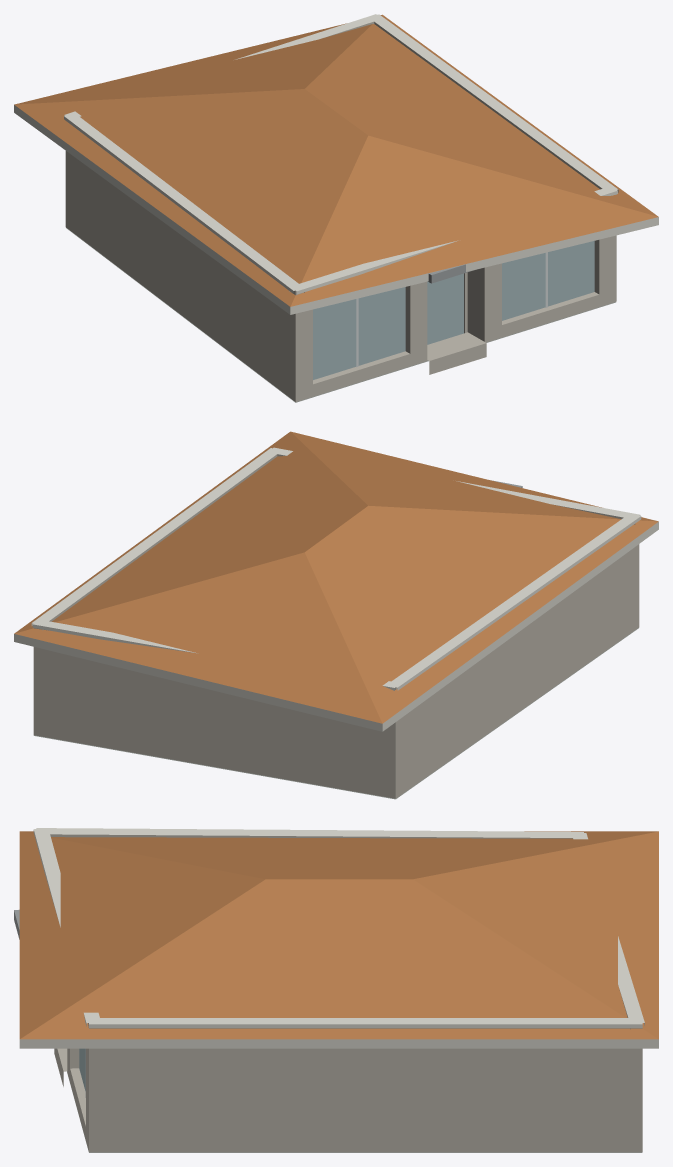
3 renders of one model, top to bottom at view 1: azimuth 30°, elevation 25°; view 2: azimuth 150°, elevation 25°; view 3: azimuth 270°, elevation 25°, orthographic. The views are drawn at different scales.
Visible parts, largest first — view 1: cafe__roofAccent, cafe__wall, cafe__trim, cafe__glass, cafe__entranceThreshold, cafe__parapet, cafe__roof; view 2: cafe__roofAccent, cafe__wall, cafe__trim, cafe__parapet, cafe__roof; view 3: cafe__roofAccent, cafe__wall, cafe__trim, cafe__parapet, cafe__roof.
Boxes of the visible parts, bbox=[...] form: cafe__roofAccent: bbox=[14, 14, 658, 306]; cafe__wall: bbox=[65, 151, 616, 401]; cafe__trim: bbox=[14, 14, 658, 314]; cafe__glass: bbox=[313, 241, 594, 379]; cafe__entranceThreshold: bbox=[427, 332, 486, 374]; cafe__parapet: bbox=[80, 21, 616, 295]; cafe__roof: bbox=[66, 227, 615, 402]; cafe__roofAccent: bbox=[14, 431, 658, 723]; cafe__wall: bbox=[33, 544, 639, 798]; cafe__trim: bbox=[14, 447, 658, 731]; cafe__parapet: bbox=[34, 454, 635, 689]; cafe__roof: bbox=[34, 628, 638, 799]; cafe__roofAccent: bbox=[19, 831, 658, 1039]; cafe__wall: bbox=[67, 1048, 642, 1152]; cafe__trim: bbox=[19, 828, 658, 1048]; cafe__parapet: bbox=[50, 834, 642, 1029]; cafe__roof: bbox=[67, 1071, 642, 1152].
Size of the model in its own units: 11.92 by 5.1 by 15.62.
